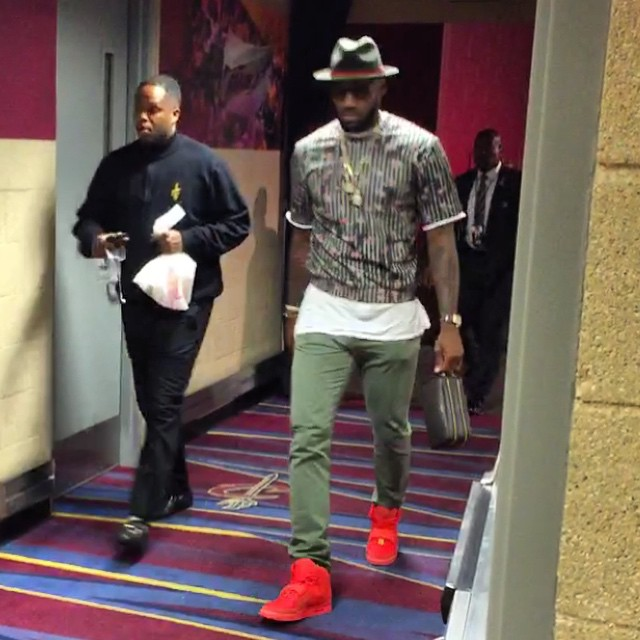Yeezy Red October: (246, 548, 343, 627), (362, 491, 407, 572)
